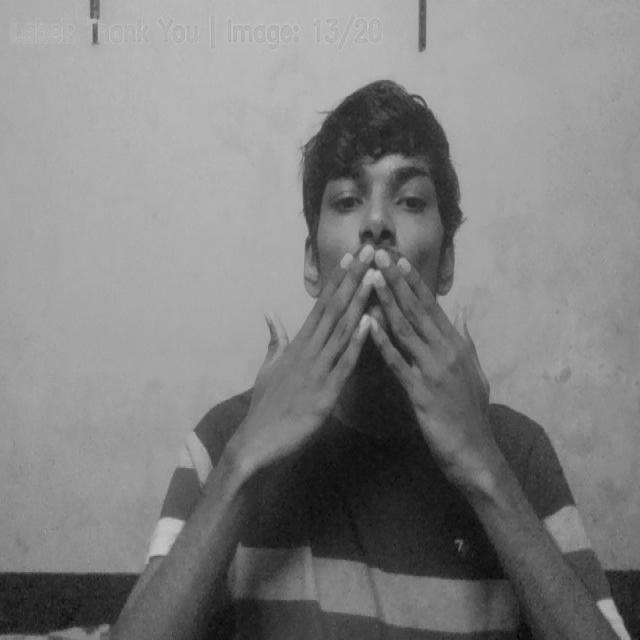Thank You: (245, 244, 497, 441)
